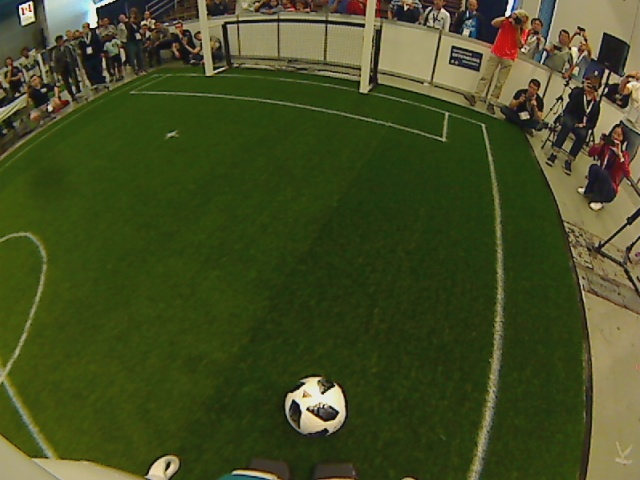ball: (282, 373, 348, 440)
